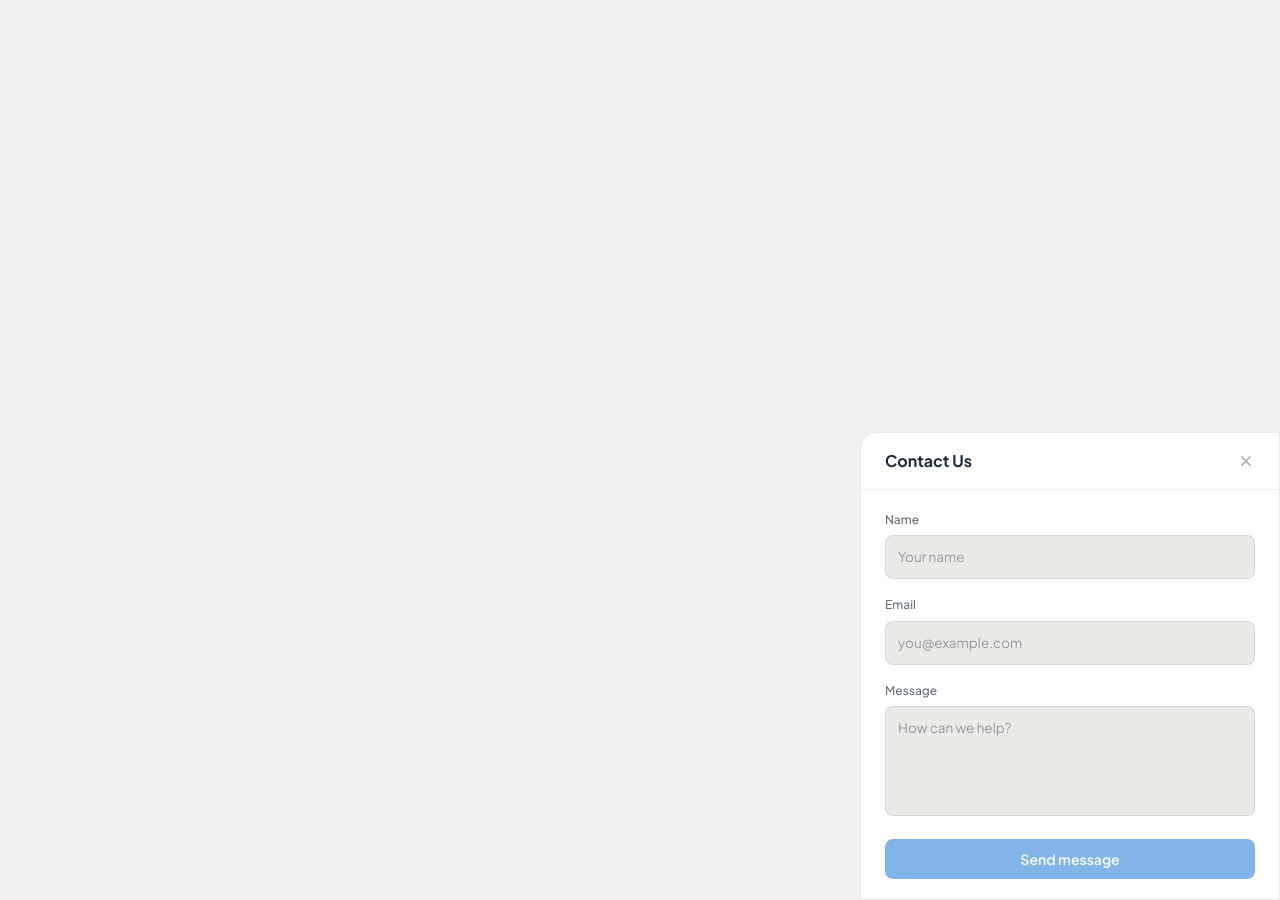
ContactPanel › shows error message on failed submission
Type "Bob" into the field labelled "Name" at (1070, 557), box [885, 535, 1255, 579]
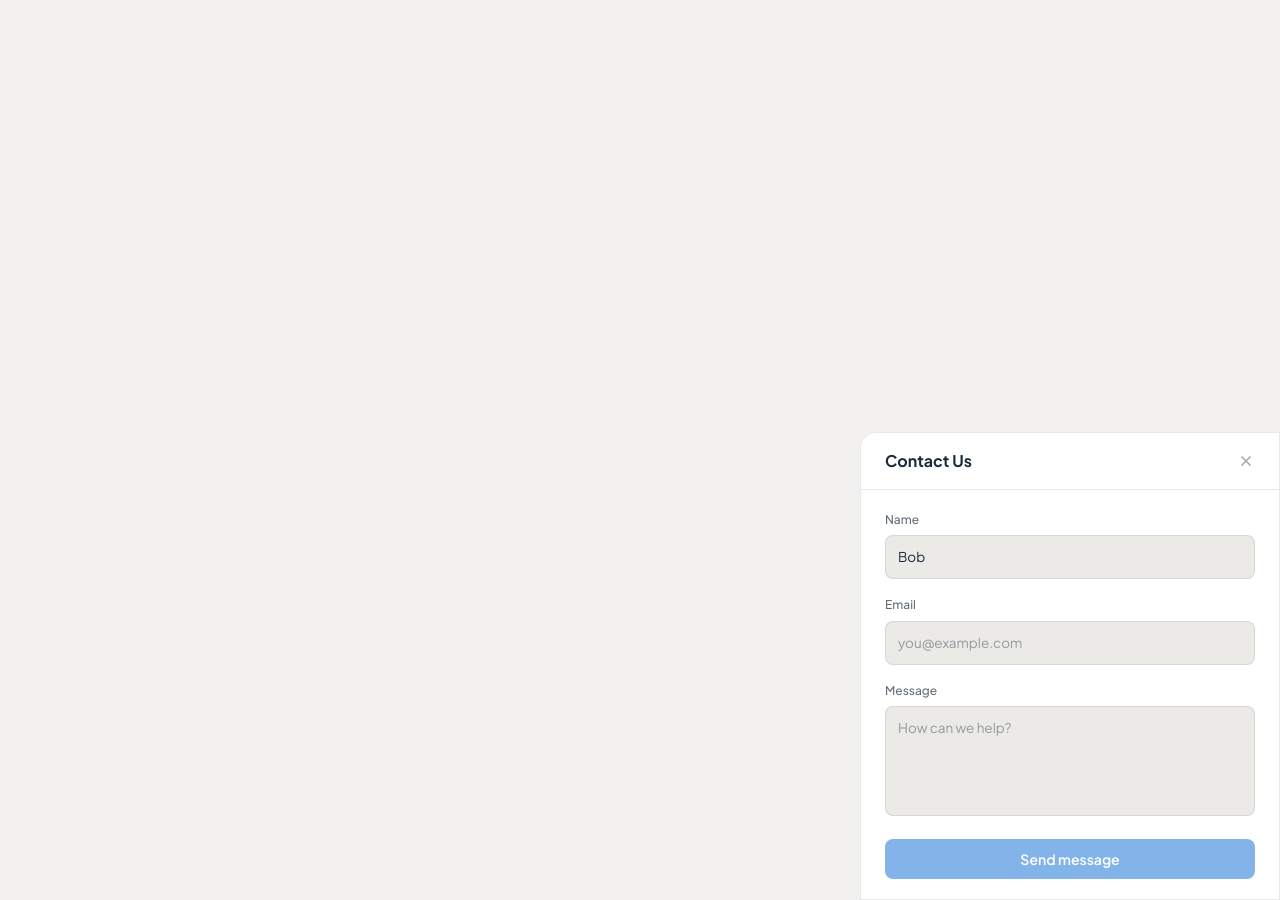
Type "bob@example.com" into the field labelled "Email" at (1070, 643), box [885, 621, 1255, 665]
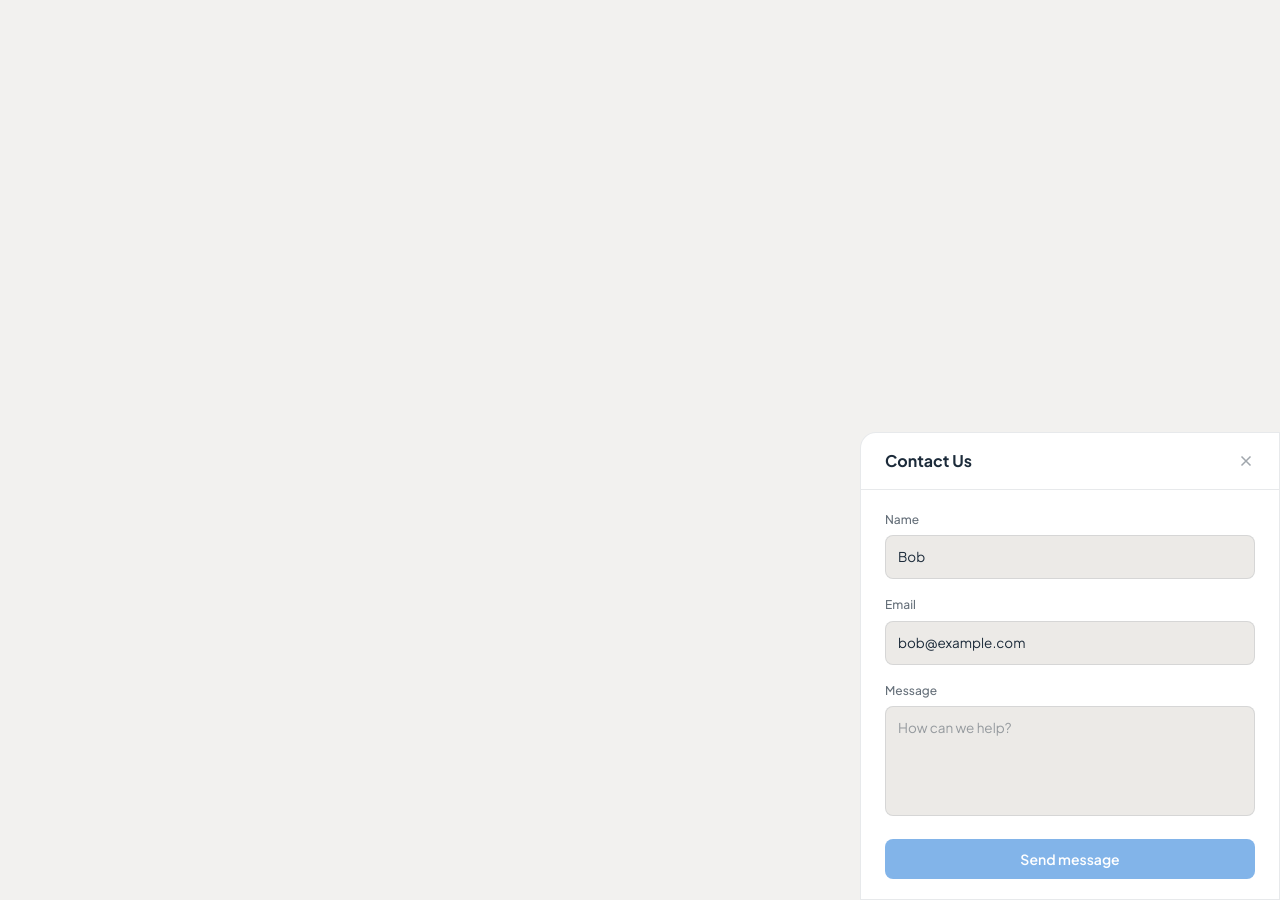
Type "Hello" into the text box labelled "Message" at (1070, 761), box [885, 706, 1255, 816]
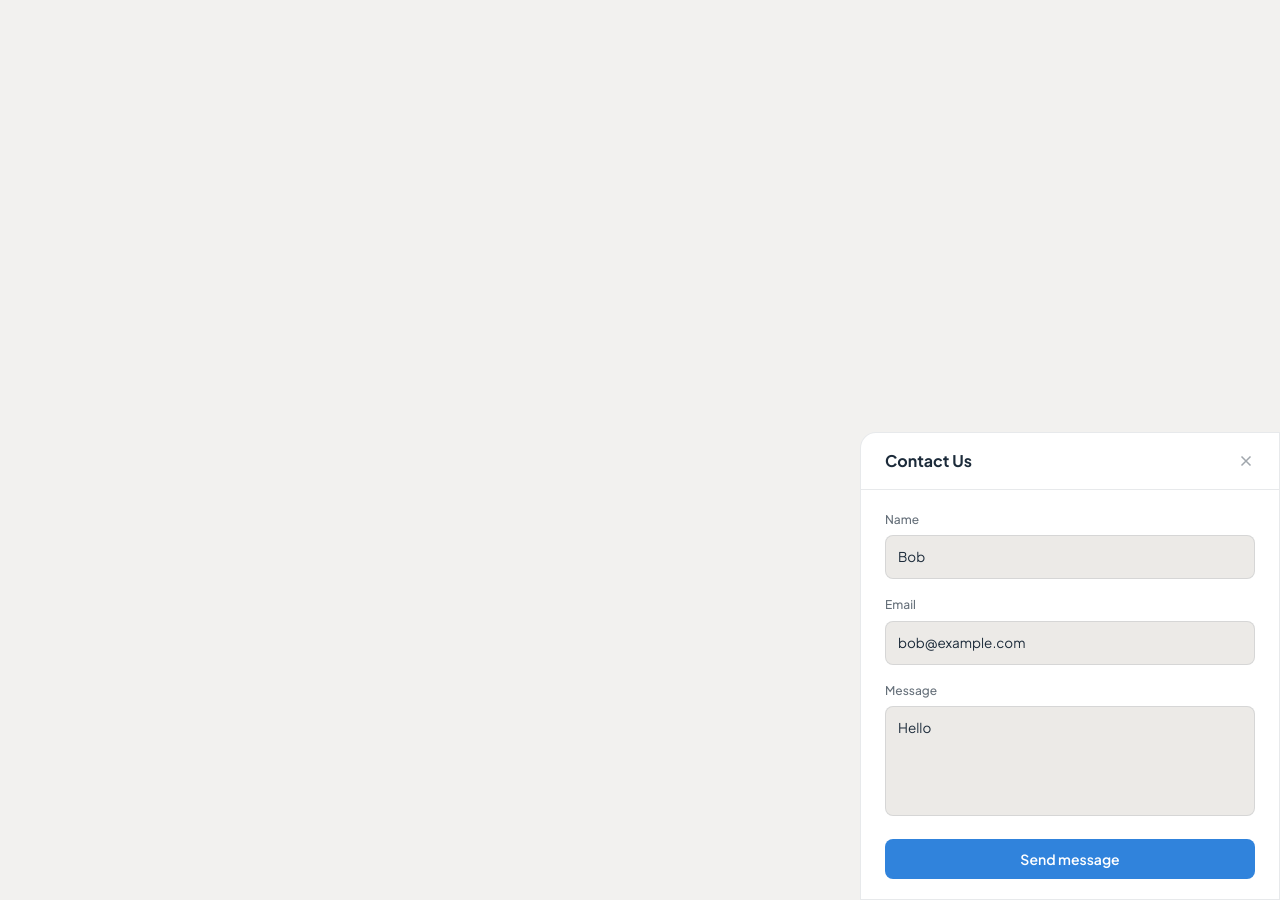
Submit the form, box [885, 510, 1255, 879]
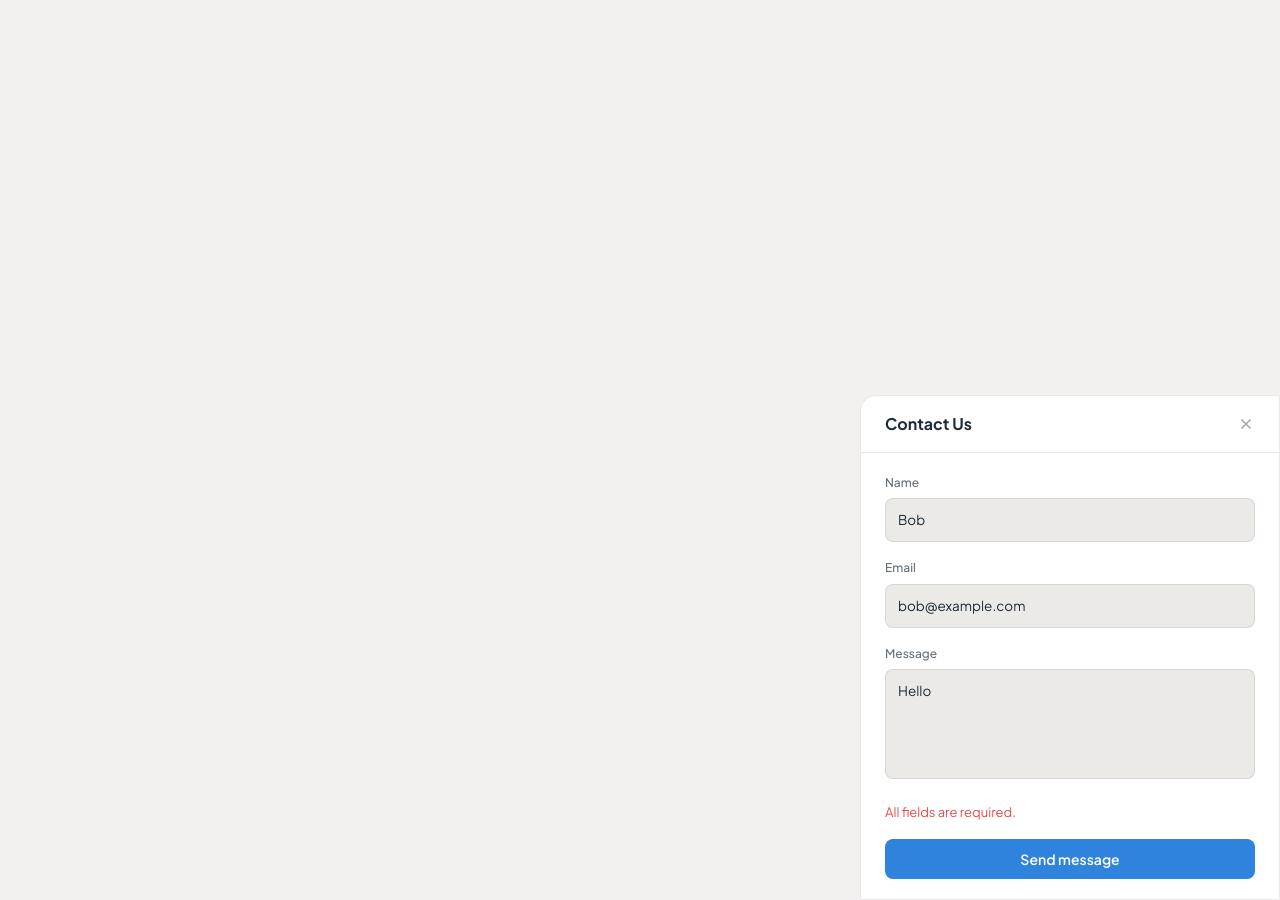
Expected: the text "All fields are required." is shown, [885, 804, 1016, 820]
